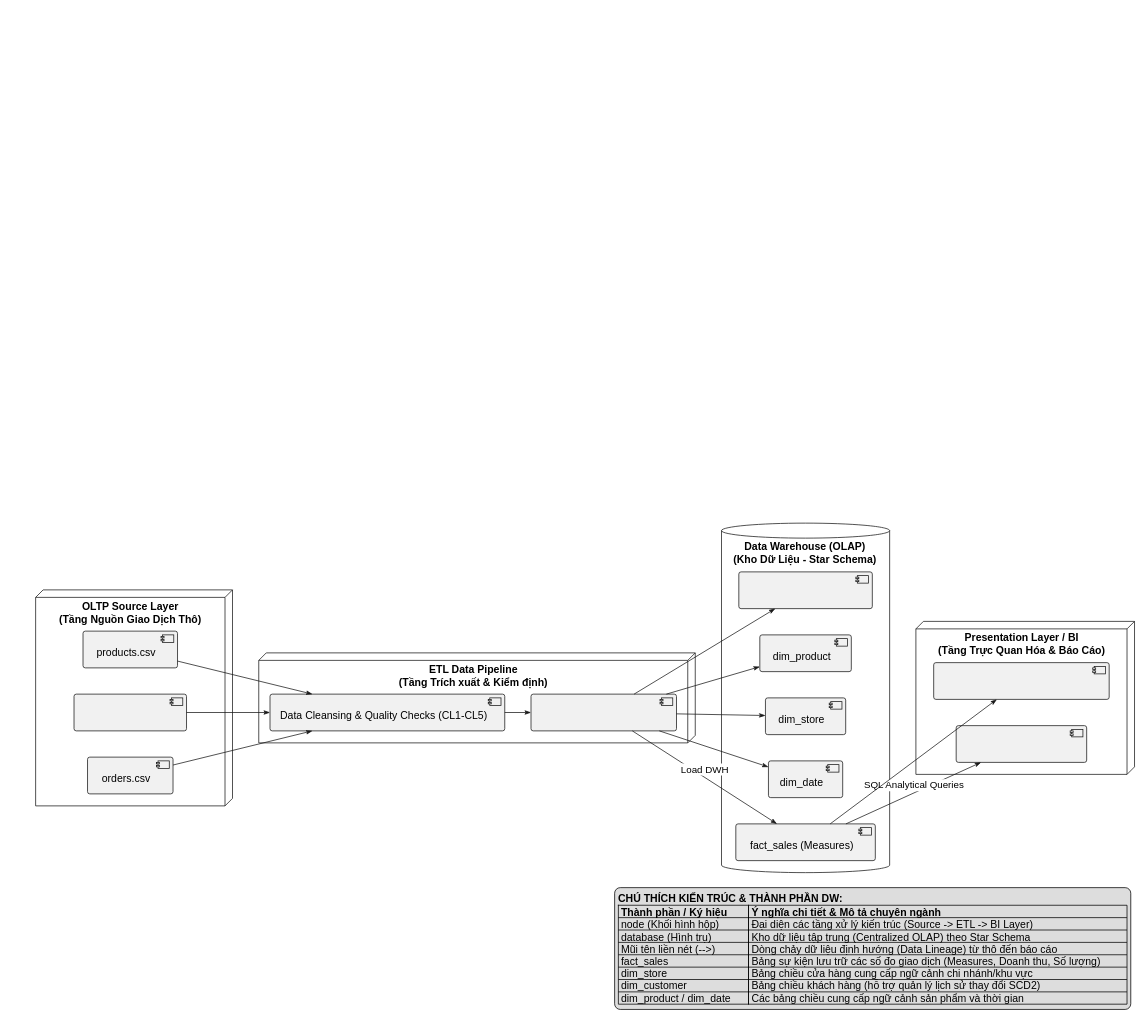
Image size: 1148x1022. Some labels were removed from this diagram. The shapes that lost their labels are listed below. From the top down, each one's centre as x and y in pixels, then its label:
(x=805, y=590): dim_customer (SCD2)
(x=1021, y=680): Retention & Revenue Analytics
(x=130, y=712): order_items.csv
(x=603, y=712): Transform & Join Logic
(x=1021, y=743): Streamlit Dashboard
